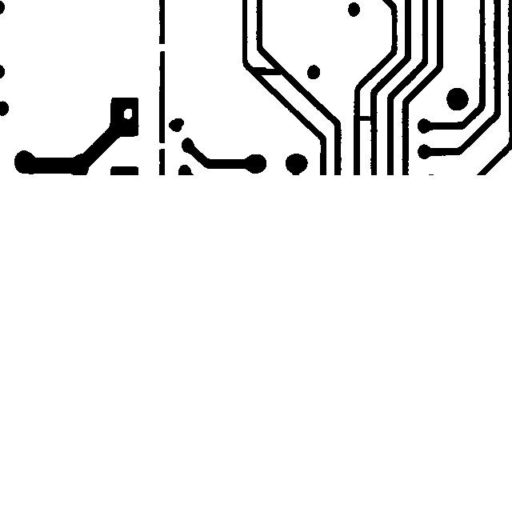copper: (161, 110, 191, 139)
open: (148, 36, 174, 59), (150, 135, 174, 157)
pin-hole: (116, 101, 139, 126)
short: (244, 59, 290, 82), (349, 108, 383, 128)
